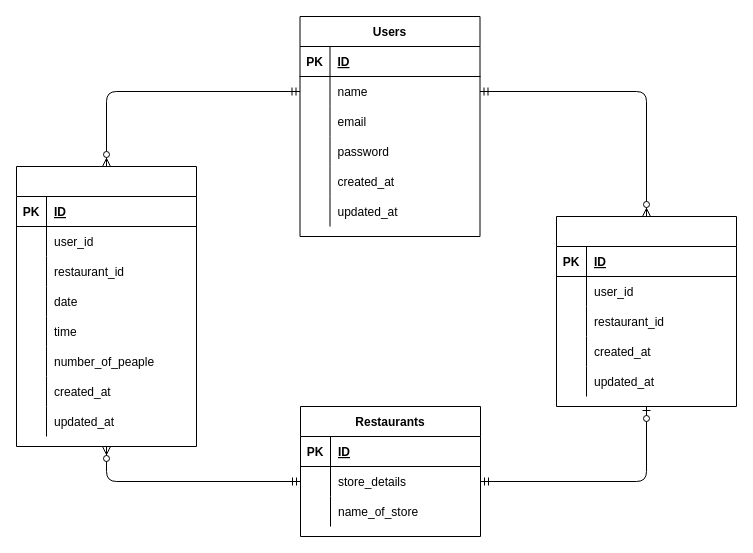
This 753x553 diagram has some shape labels left out. Here are the shapes that lost their labels. From the top down, the box of each, then its label:
(16, 166, 196, 446): Reservations
(556, 216, 736, 406): Likes
